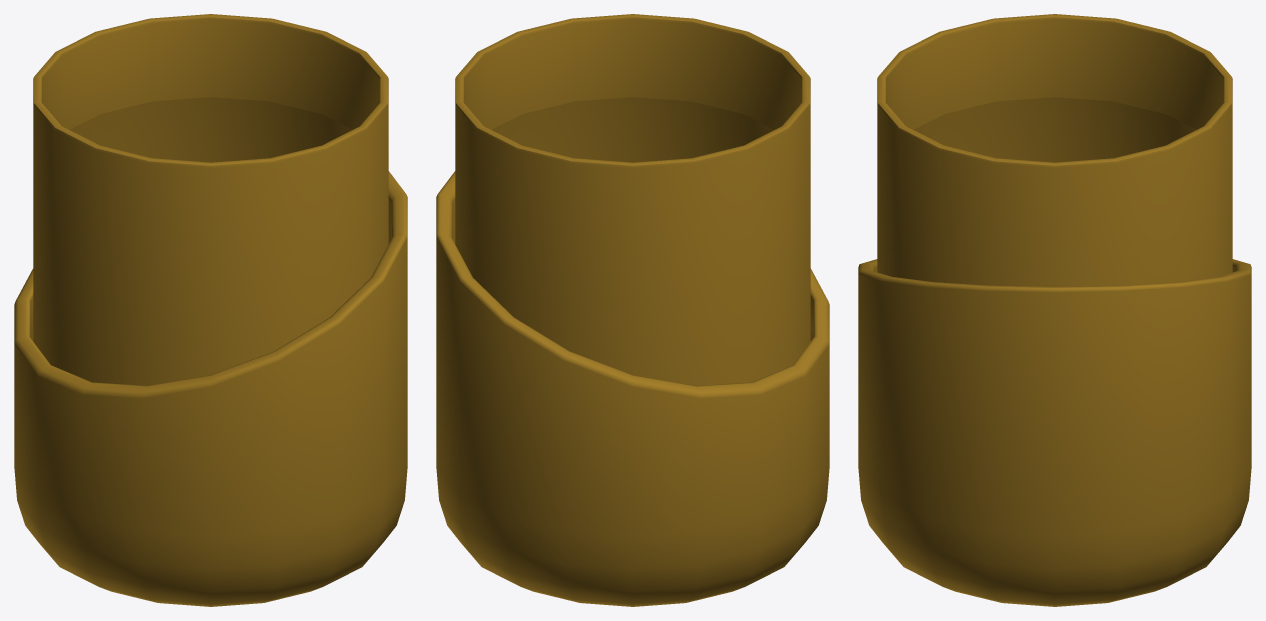
Rendered from Pot_4.FBX.
3 views of the same model, side by side, from view 1: azimuth 30°, elevation 25°; view 2: azimuth 150°, elevation 25°; view 3: azimuth 270°, elevation 25° (orthographic).
Visible parts, largest first — view 1: Pot_4; view 2: Pot_4; view 3: Pot_4.
Part boxes in pixels (x1,y1,x2,y2): Pot_4: [14, 14, 407, 606]; Pot_4: [436, 14, 829, 606]; Pot_4: [858, 14, 1251, 606].
Size of the model in its own units: 22.57 by 28.43 by 22.23.
